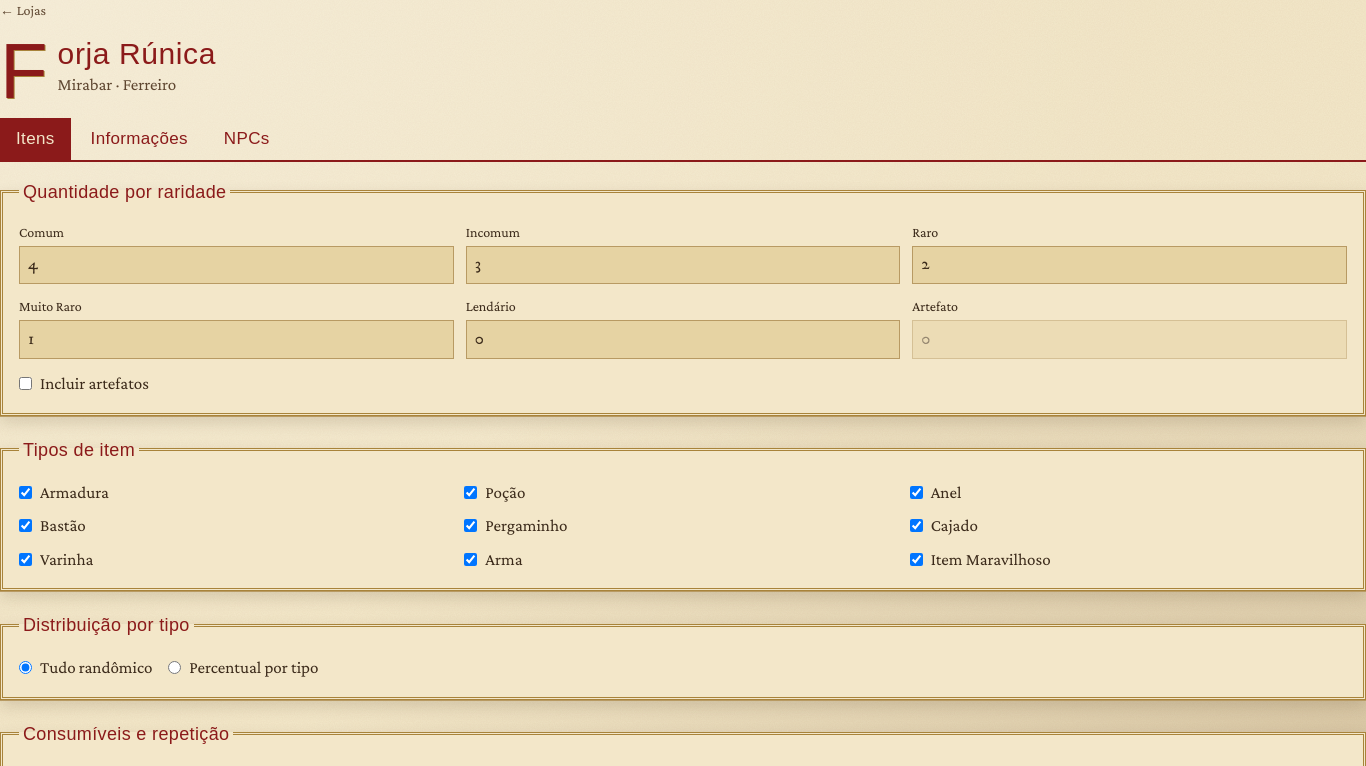
Scenario: ShopView › editar o nome em Informações atualiza o título
Click the tab "Informações": [139, 139] box [75,118,204,160]
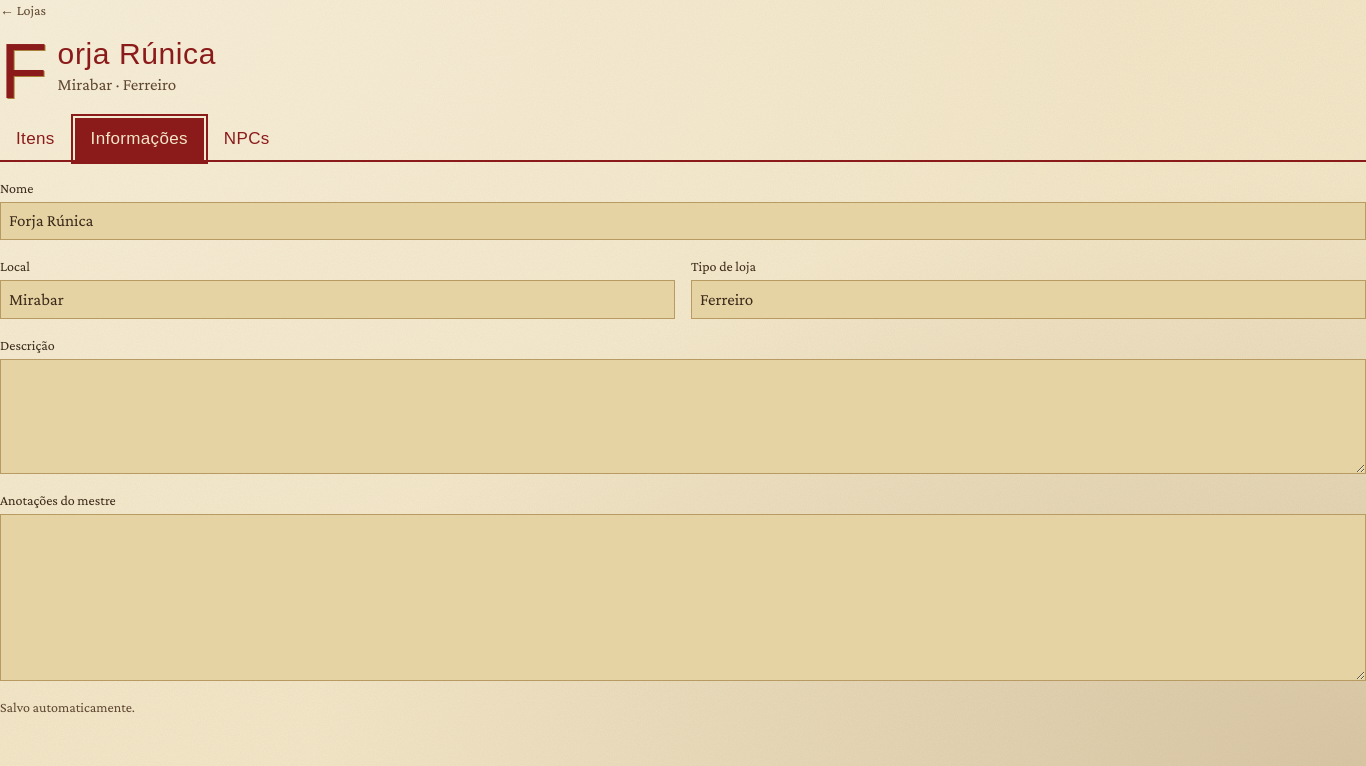
Replace the text in the field labelled "Nome" with "Nova Forja": [683, 221] box [0,202,1365,240]
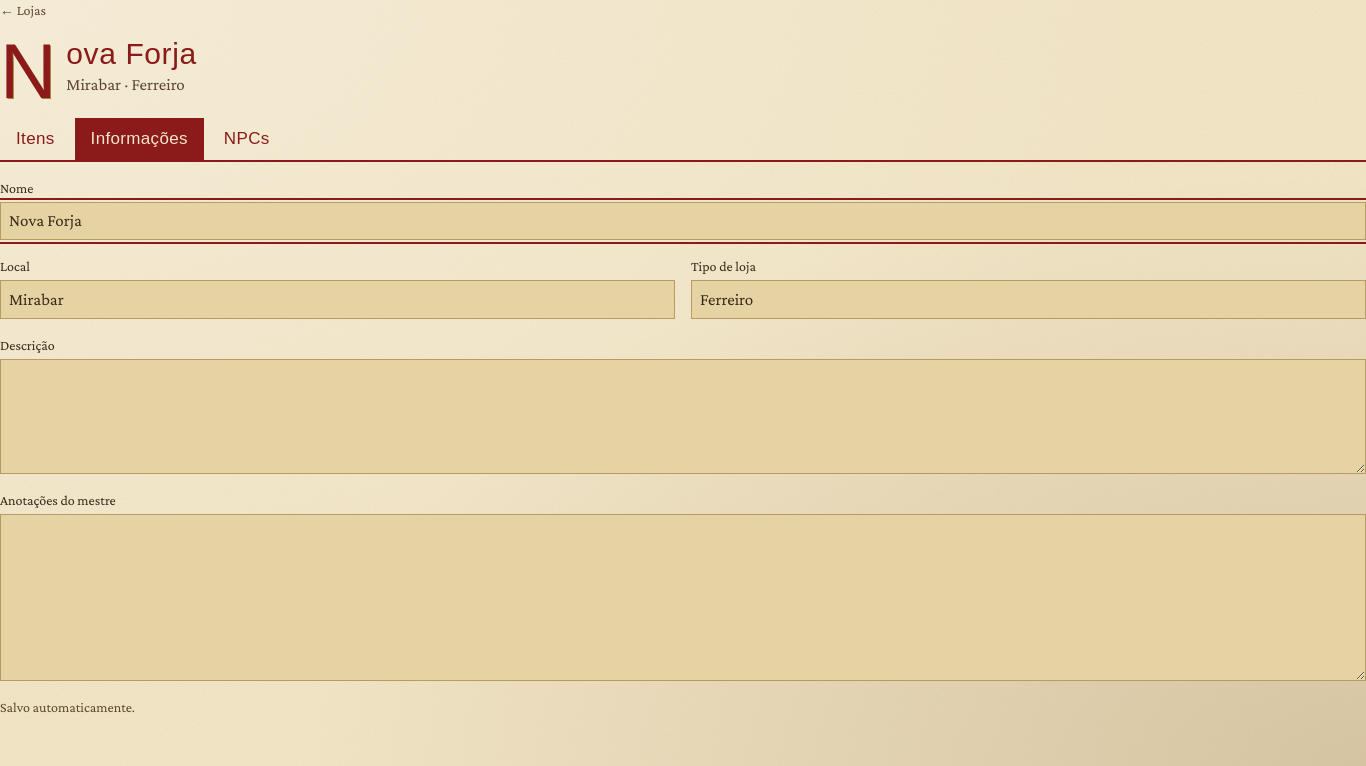
Now the heading "Nova Forja" is shown, box [0,27,197,115]
